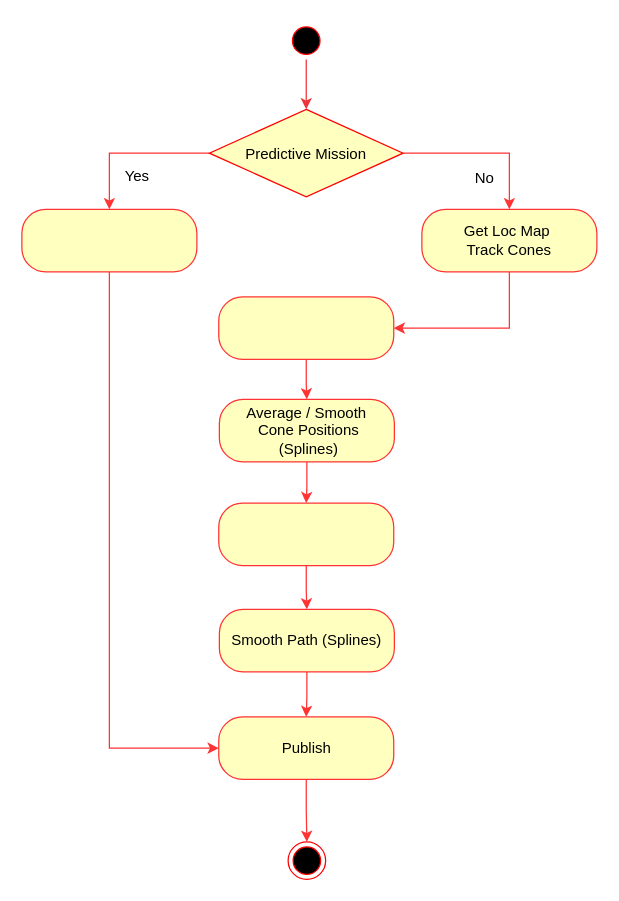
Some shapes in this 619 by 901 pixel diagram are drawn without their labels. Each missing label, with the centre of its shape:
"Calculate Middle Path (Delaunay Triangulations)" belongs at (306,534).
"Cone Coloring" belongs at (306,327).
"Read Pre-Calculated Path From File" belongs at (109,240).
